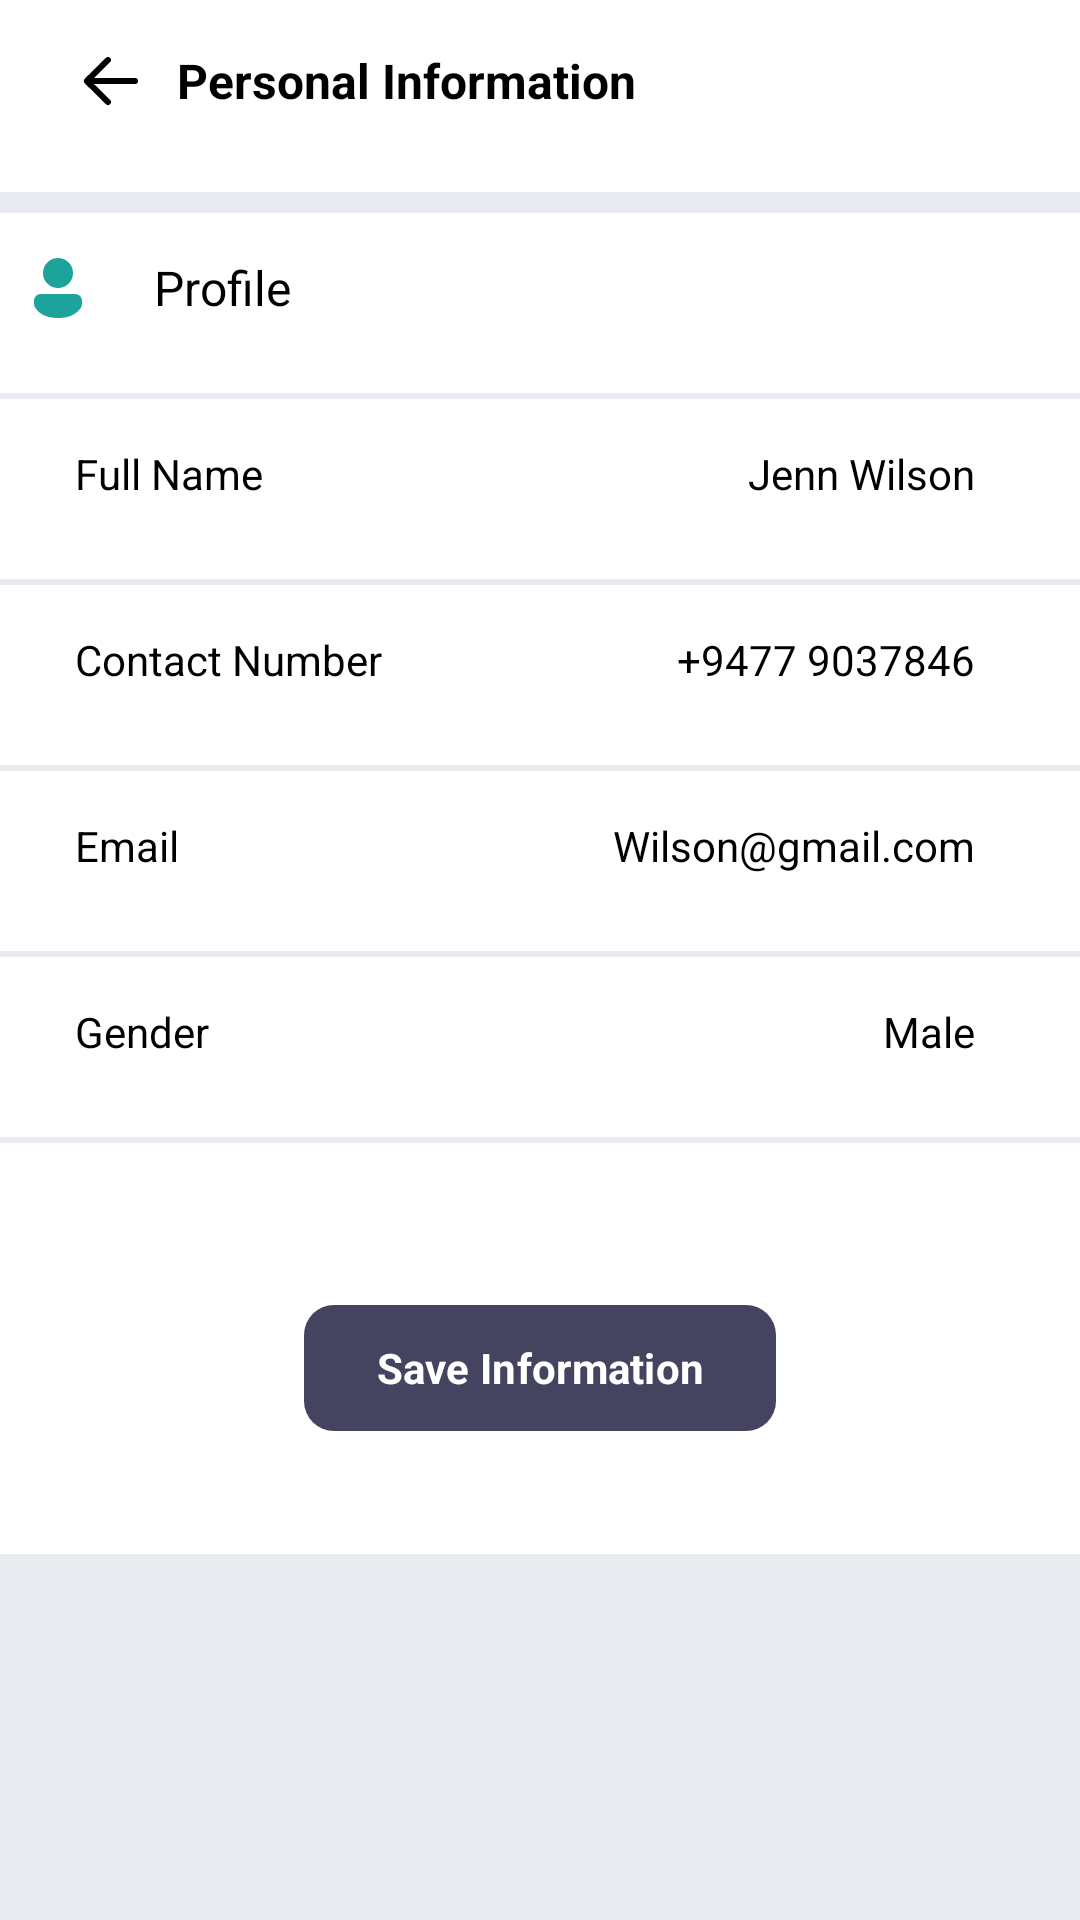

Where to tap for icons on this 1080w x 1920h app screen, as (x,y):
fluent arrow left: (110,81)
fluent person: (58,288)
